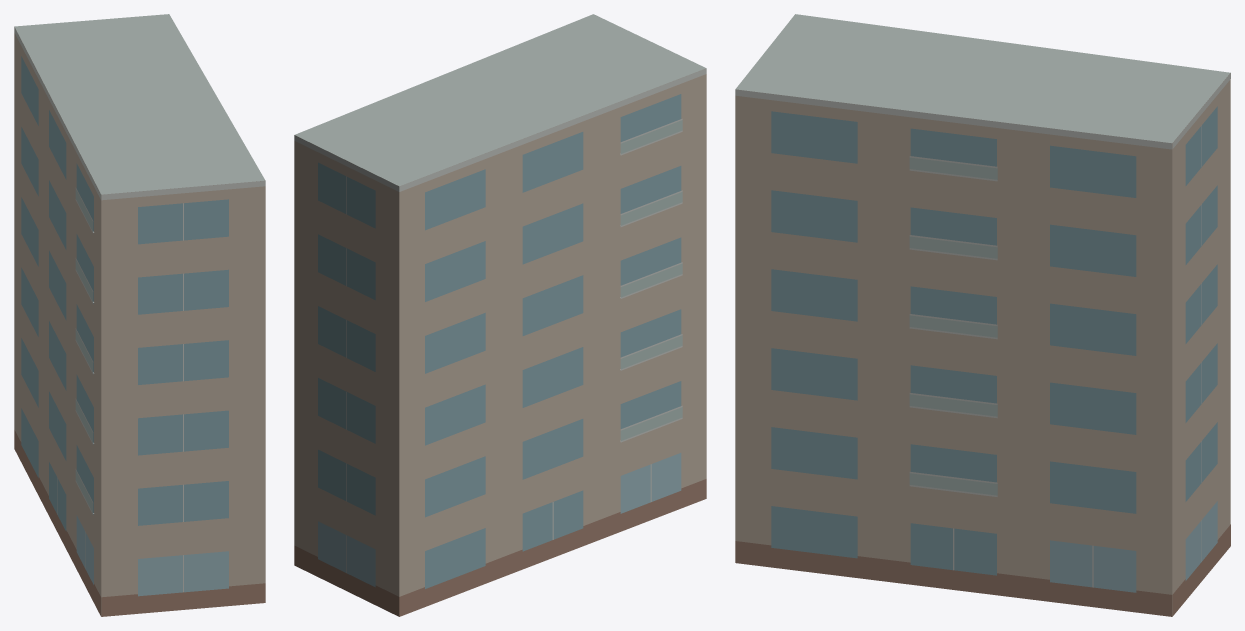
File: survey-upis-32874442.glb
3 renders of one model, left to right at view 1: azimuth 30°, elevation 25°; view 2: azimuth 150°, elevation 25°; view 3: azimuth 270°, elevation 25°, orthographic. The views are drawn at different scales.
Parts seen in each view (by area): view 1: survey-upis-32874442.tmp; view 2: survey-upis-32874442.tmp; view 3: survey-upis-32874442.tmp.
Boxes of the visible parts, box(x1,y1,x2,y2) form: survey-upis-32874442.tmp: box(14, 14, 265, 616); survey-upis-32874442.tmp: box(294, 14, 706, 616); survey-upis-32874442.tmp: box(735, 14, 1230, 616).
Bounding box in the file's own units: 10.72 × 18.3 × 17.36.
